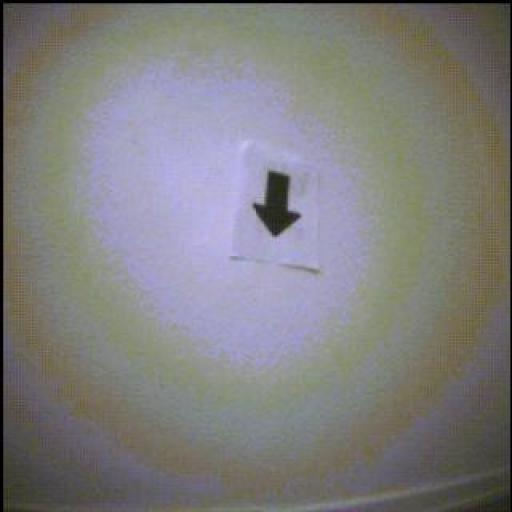arrow: (254, 172, 302, 238)
